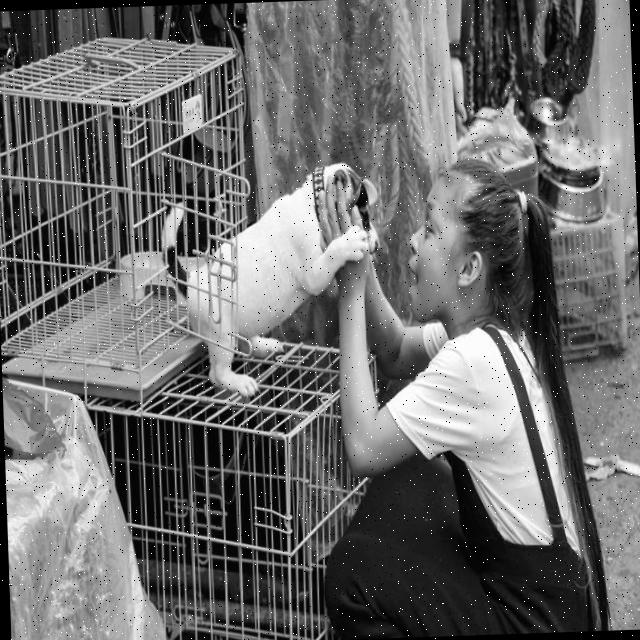Happiness: (398, 164, 487, 325)
